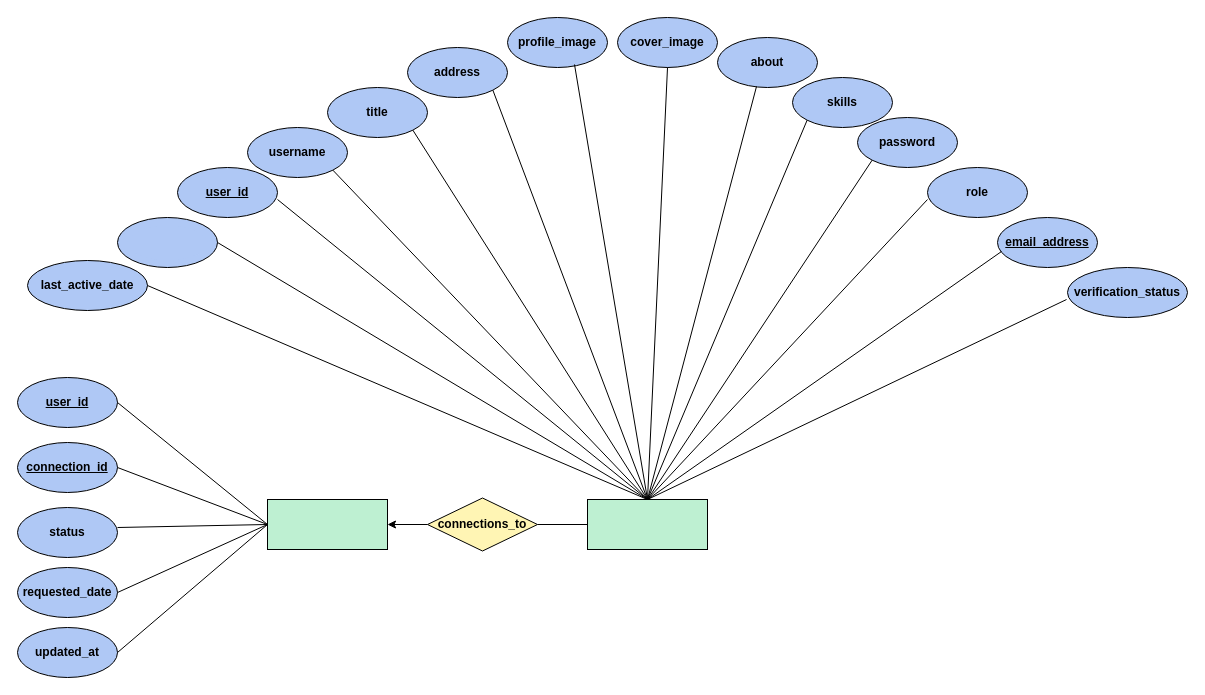
Image size: 1205x695. Some labels were removed from this diagram. Here are the shapes that lost their labels. From the top down, the centre of each, then its label:
At (167,242): "languages".
At (327,524): "Connections".
At (647,524): "User".
